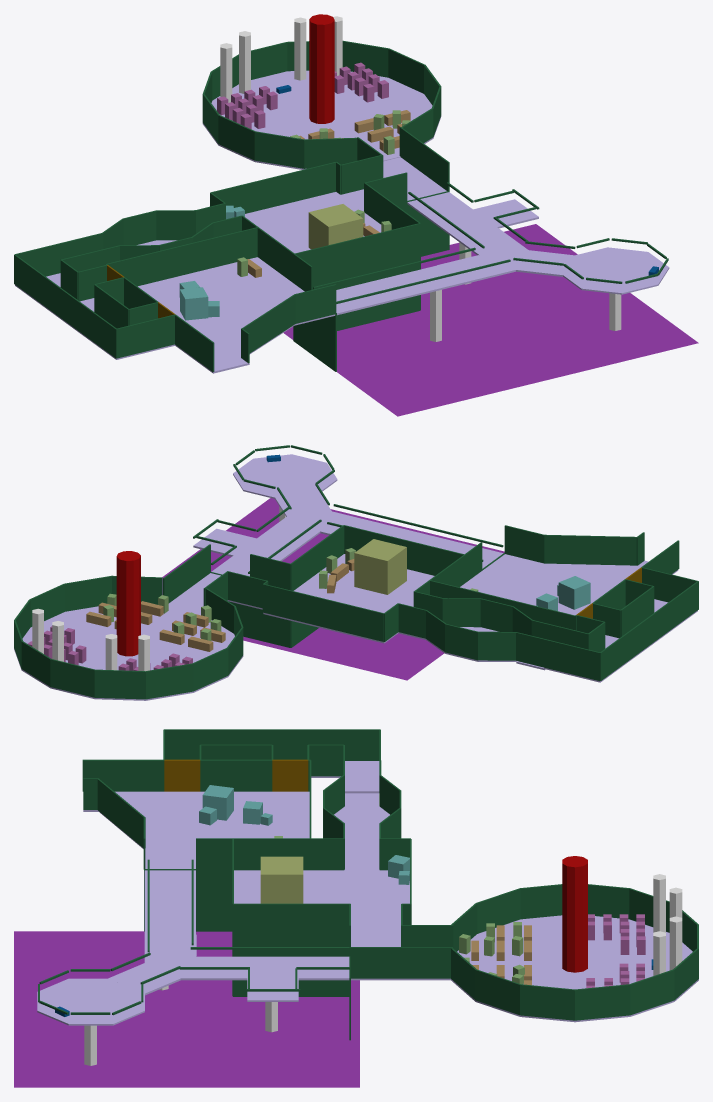
File: BlockoutBIEN.fbx
3 views of the same model, one above another, from view 1: azimuth 30°, elevation 25°; view 2: azimuth 150°, elevation 25°; view 3: azimuth 270°, elevation 25° (orthographic). The views are drawn at different scales.
Parts seen in each view (by area): view 1: BLOCK_RoomVoid_FogLimit, BLOCK_Room3_Walls, BLOCK_Room3_Floor, BLOCK_Room1_Floor2, BLOCK_Room1_Wall2, BLOCK_Highway1_Floor2, BLOCK_Highway1_Floor6, BLOCK_Room2_Wall9, BLOCK_Room2_Wall8, BLOCK_Hallway2_Wall11, BLOCK_Highway1_Floor1, BLOCK_Room2_Floor1 (+29 smaller); view 2: BLOCK_Room3_Walls, BLOCK_RoomVoid_FogLimit, BLOCK_Room3_Floor, BLOCK_Room1_Floor2, BLOCK_Room2_Wall8, BLOCK_Highway1_Floor6, BLOCK_Highway1_Floor2, BLOCK_Hallway2_Wall11, BLOCK_Room2_Floor1, BLOCK_Room1_Wall12, BLOCK_Room3_Elevator, BLOCK_Room2_Reactor (+45 smaller); view 3: BLOCK_RoomVoid_FogLimit, BLOCK_Room3_Walls, BLOCK_Room3_Floor, BLOCK_Room2_Floor1, BLOCK_Room1_Floor2, BLOCK_Hallway2_Wall11, BLOCK_Highway1_Floor2, BLOCK_Highway1_Floor1, BLOCK_Highway1_Floor6, BLOCK_Room2_Wall5, BLOCK_RoomVoid_Wall3, BLOCK_Room2_Wall12 (+29 smaller).
Boxes of the visible parts, x1,y1,x2,y2 form: BLOCK_RoomVoid_FogLimit: (283,224,698,416); BLOCK_Room3_Walls: (202,40,441,168); BLOCK_Room3_Floor: (202,70,441,169); BLOCK_Room1_Floor2: (143,257,335,356); BLOCK_Room1_Wall2: (106,227,257,286); BLOCK_Highway1_Floor2: (407,192,532,274); BLOCK_Highway1_Floor6: (563,247,669,294); BLOCK_Room2_Wall9: (295,223,420,278); BLOCK_Room2_Wall8: (211,162,336,213); BLOCK_Hallway2_Wall11: (14,254,116,358); BLOCK_Highway1_Floor1: (336,255,503,315); BLOCK_Room2_Floor1: (245,192,381,253); BLOCK_Room3_Walls: (14,575,243,699); BLOCK_RoomVoid_FogLimit: (162,498,504,680); BLOCK_Room3_Floor: (14,606,243,700); BLOCK_Room1_Floor2: (460,554,635,613); BLOCK_Room2_Wall8: (263,584,383,641); BLOCK_Highway1_Floor6: (233,454,337,498); BLOCK_Highway1_Floor2: (211,505,343,576); BLOCK_Hallway2_Wall11: (600,581,698,680); BLOCK_Room2_Floor1: (263,554,434,643); BLOCK_Room1_Wall12: (544,534,636,565); BLOCK_Room3_Elevator: (116,551,140,656); BLOCK_Room2_Reactor: (354,539,406,594); BLOCK_RoomVoid_FogLimit: (14,931,359,1087); BLOCK_Room3_Walls: (451,884,698,1020); BLOCK_Room3_Floor: (451,915,698,1022); BLOCK_Room2_Floor1: (234,869,409,934); BLOCK_Room1_Floor2: (99,810,309,868); BLOCK_Hallway2_Wall11: (164,729,380,760); BLOCK_Highway1_Floor2: (144,956,349,980); BLOCK_Highway1_Floor1: (144,870,195,956); BLOCK_Highway1_Floor6: (37,978,144,1025); BLOCK_Room2_Wall5: (233,903,350,935); BLOCK_RoomVoid_Wall3: (233,934,349,996); BLOCK_Room2_Wall12: (350,947,452,978).
Size of the model in its own units: 73.36 by 21.67 by 79.94.
